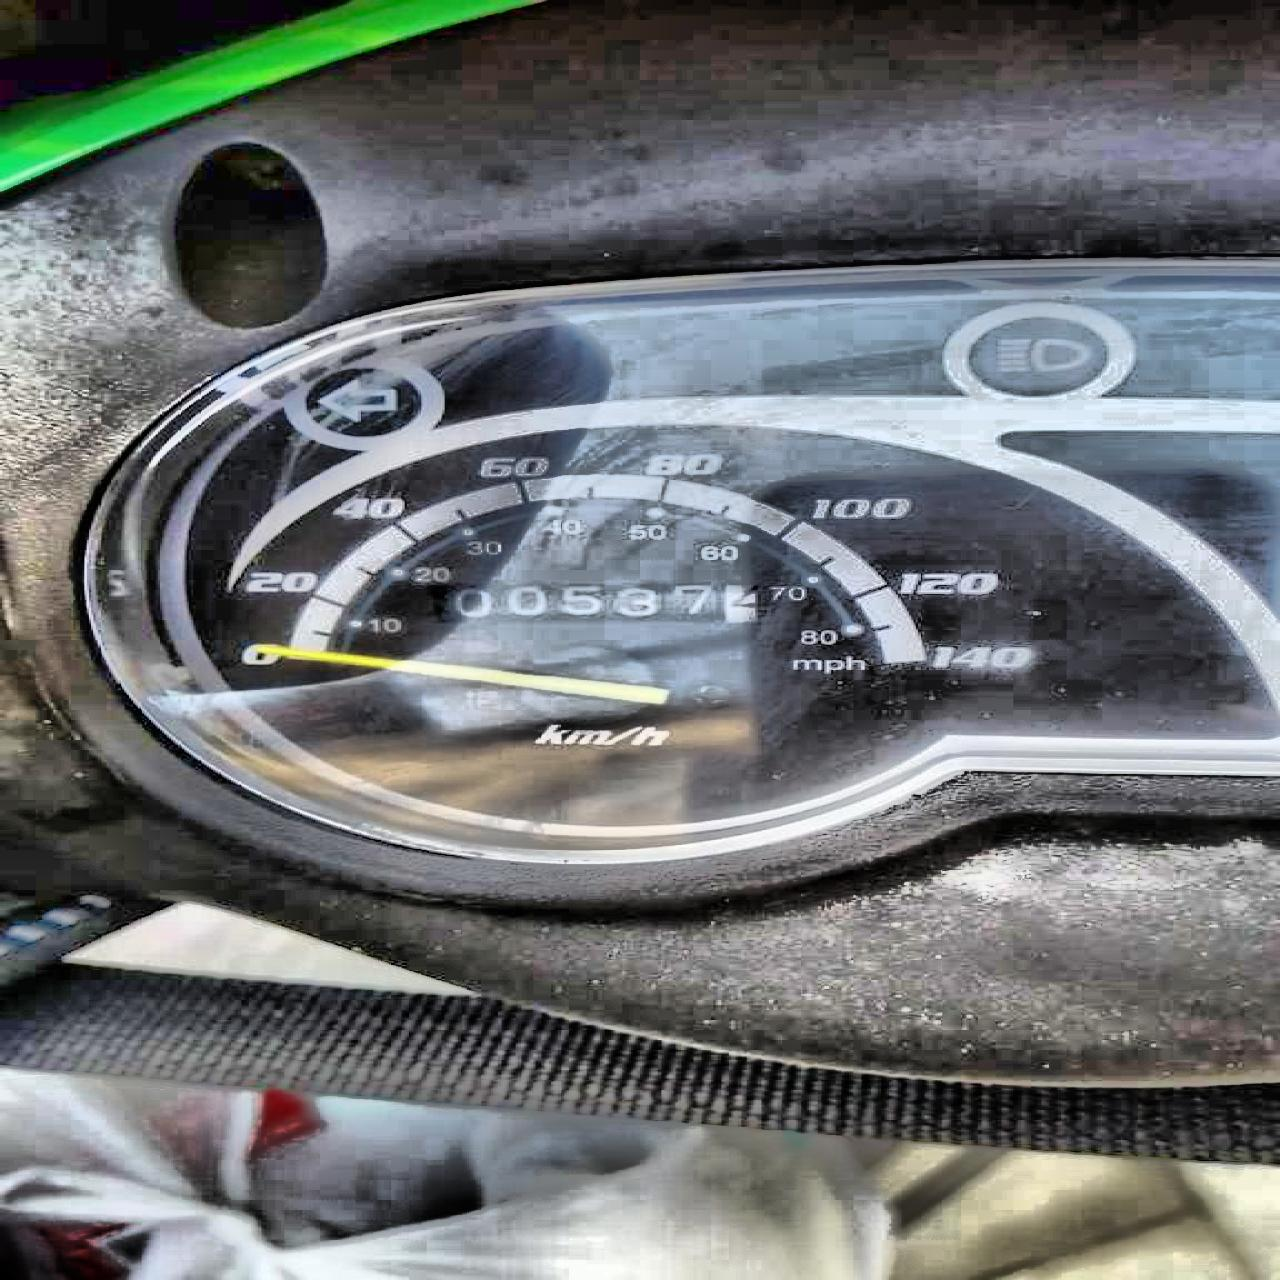0: (502, 584, 546, 617), (449, 585, 491, 619)
3: (613, 585, 658, 617)
4: (724, 583, 763, 615)
5: (558, 584, 605, 617)
7: (669, 581, 715, 615)
odometer: (421, 578, 767, 627)
